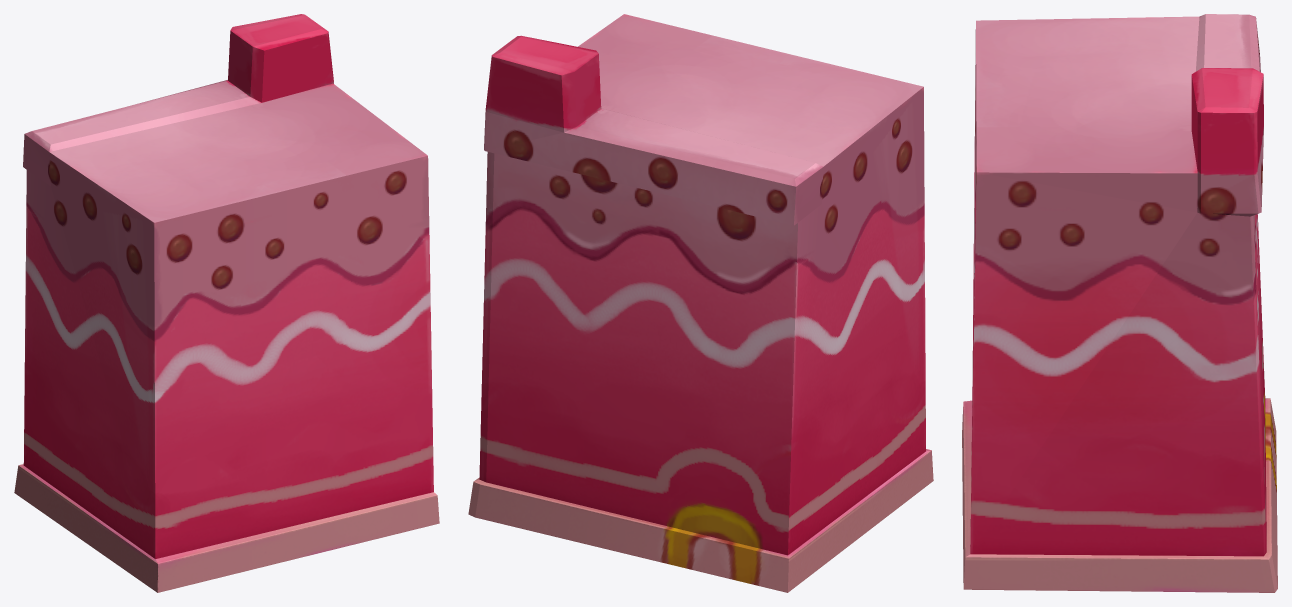
Rendered from common_obj_169.fbx.
The picture shows the model from 3 angles, left to right: view 1: azimuth 30°, elevation 25°; view 2: azimuth 150°, elevation 25°; view 3: azimuth 270°, elevation 25°; orthographic projection. The views are drawn at different scales.
Parts seen in each view (by area): view 1: Wall_Right_01; view 2: Wall_Right_01; view 3: Wall_Right_01.
Boxes of the visible parts, x1,y1,x2,y2 form: Wall_Right_01: [14, 14, 439, 592]; Wall_Right_01: [468, 14, 933, 592]; Wall_Right_01: [962, 14, 1277, 592].
Size of the model in its own units: 15356 by 21019 by 12628.
